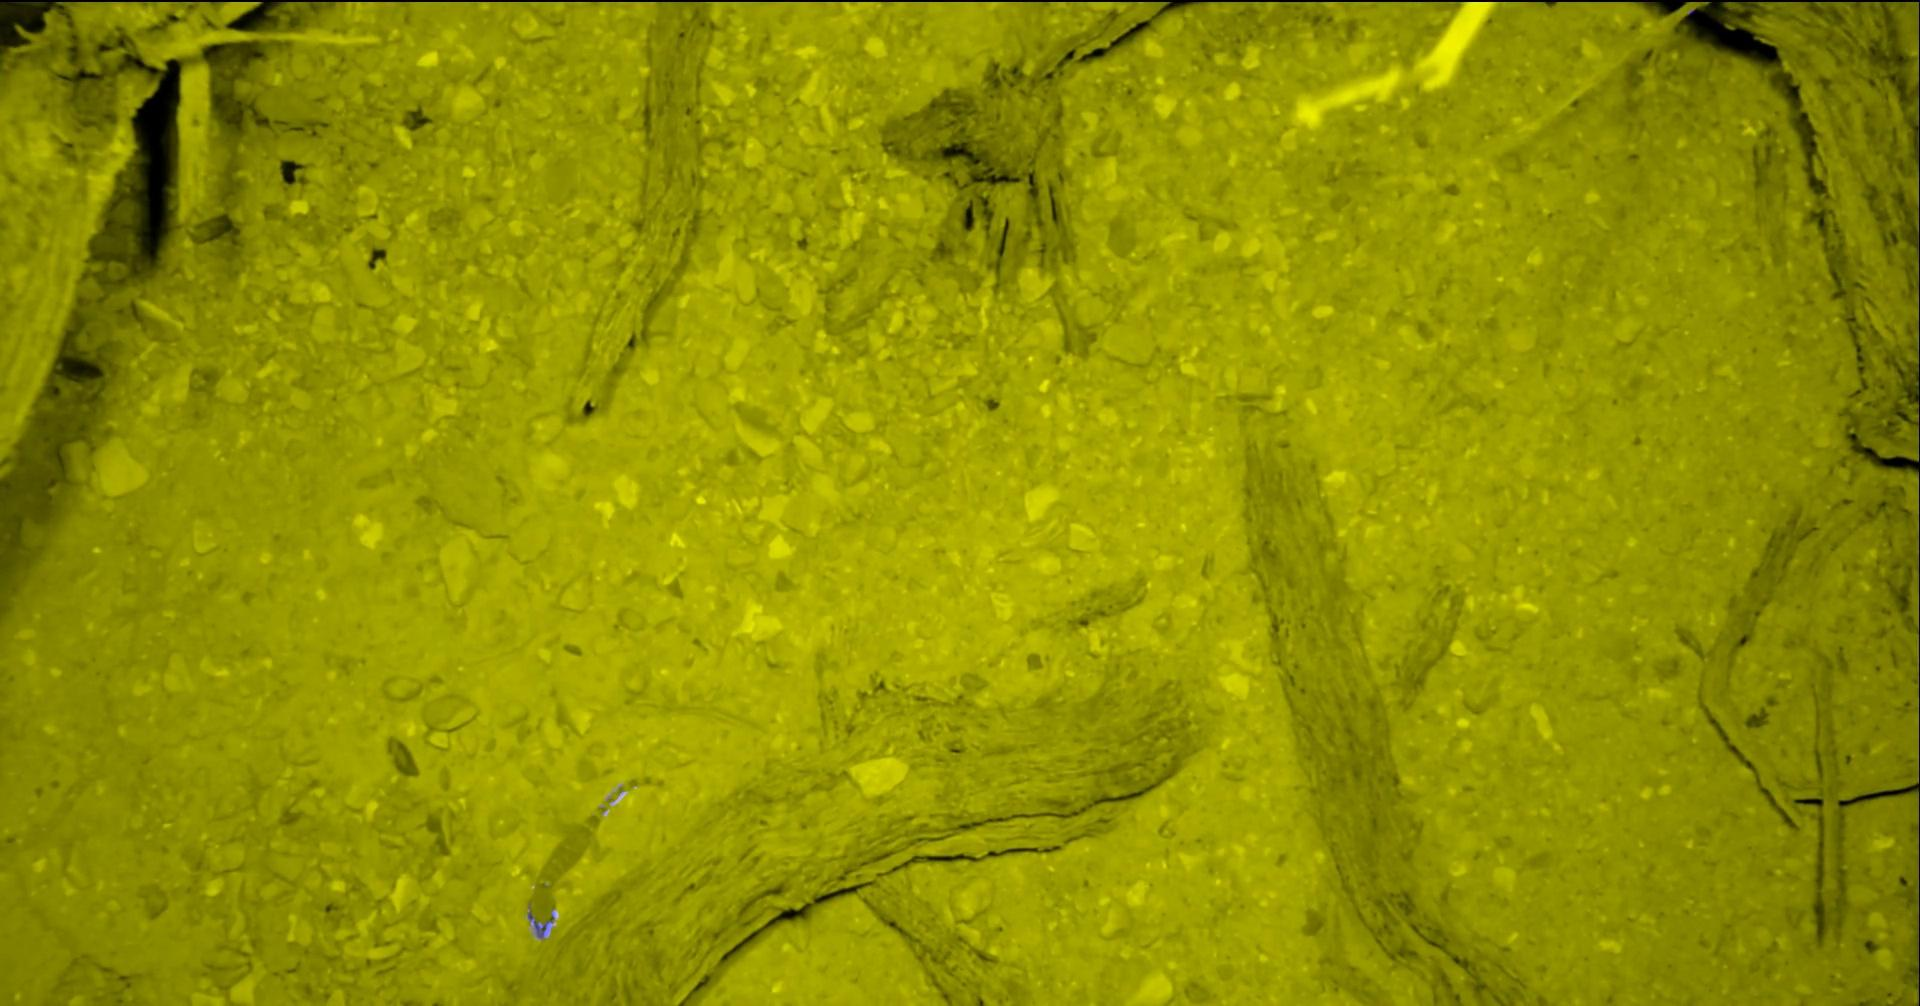ant: (535, 915, 555, 937), (1919, 912, 1920, 967)
